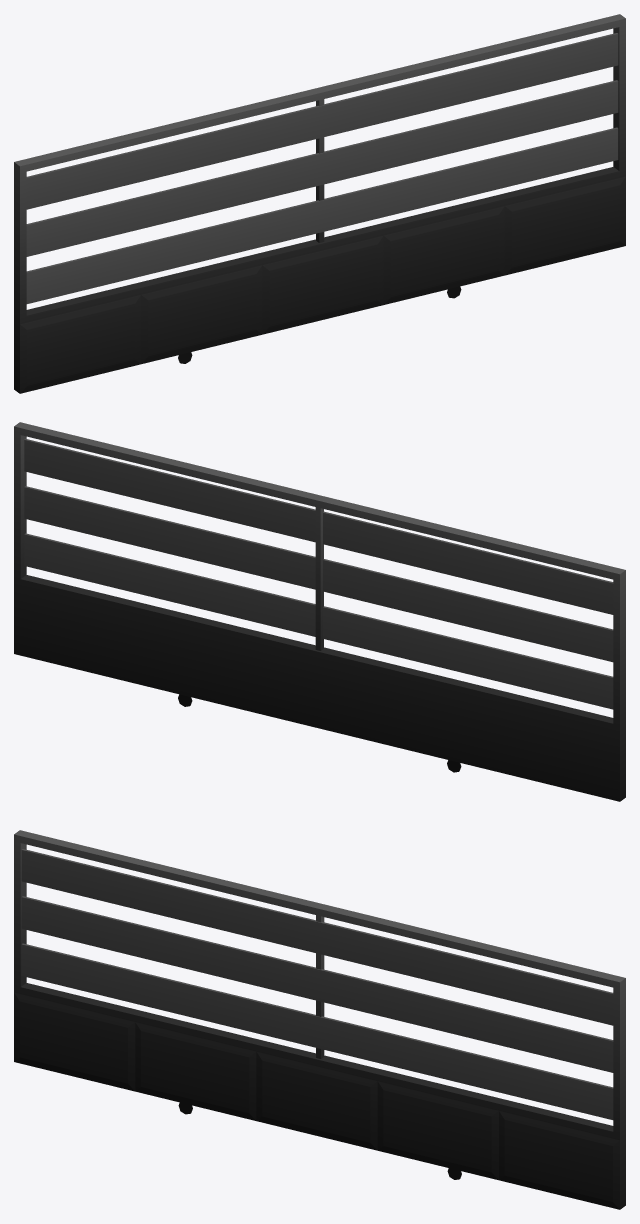
File: Gate2.fbx
3 views of the same model, one above another, from view 1: azimuth 30°, elevation 25°; view 2: azimuth 150°, elevation 25°; view 3: azimuth 330°, elevation 25° (orthographic).
Parts seen in each view (by area): view 1: Gate2_LOD0; view 2: Gate2_LOD0; view 3: Gate2_LOD0.
Boxes of the visible parts, bbox=[...] form: Gate2_LOD0: bbox=[14, 14, 625, 393]; Gate2_LOD0: bbox=[14, 422, 625, 801]; Gate2_LOD0: bbox=[14, 830, 625, 1209].
Size of what is drawn, in the model's own units: 400 by 152 by 7.55.
